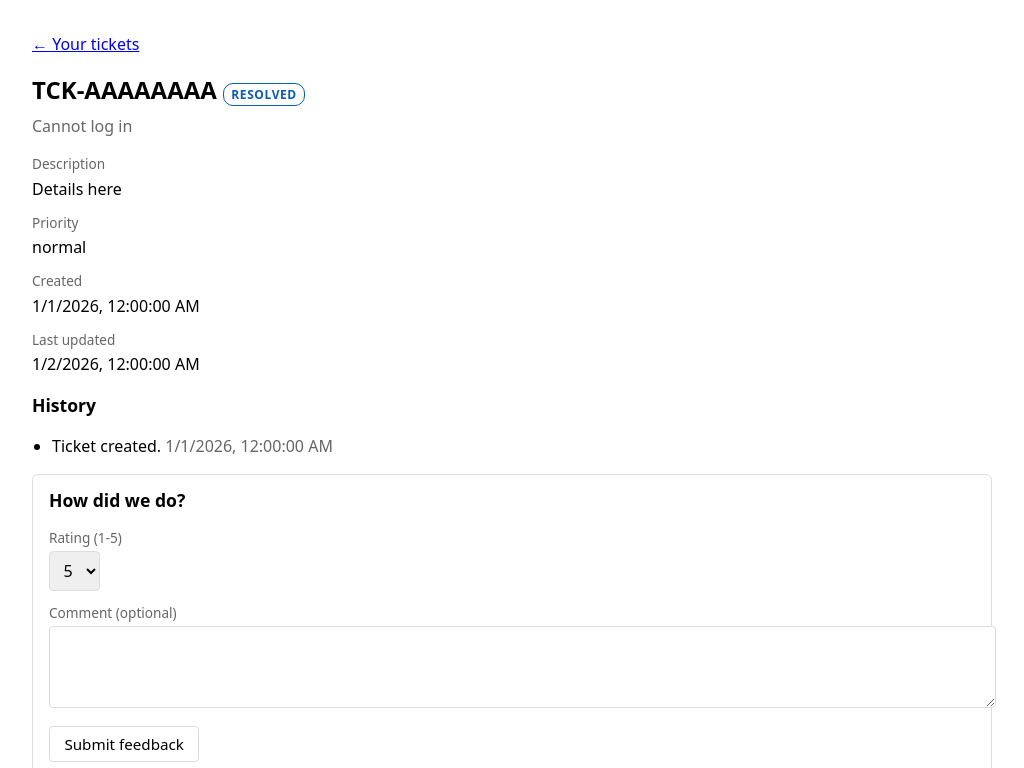
Test: PortalTicketDetailPage › shows the feedback form for a resolved ticket and saves a submission
Expected: the heading "How did we do?" is shown, [49,488,185,512]
Click the button "Submit feedback" at (124, 744), box [49,726,199,762]
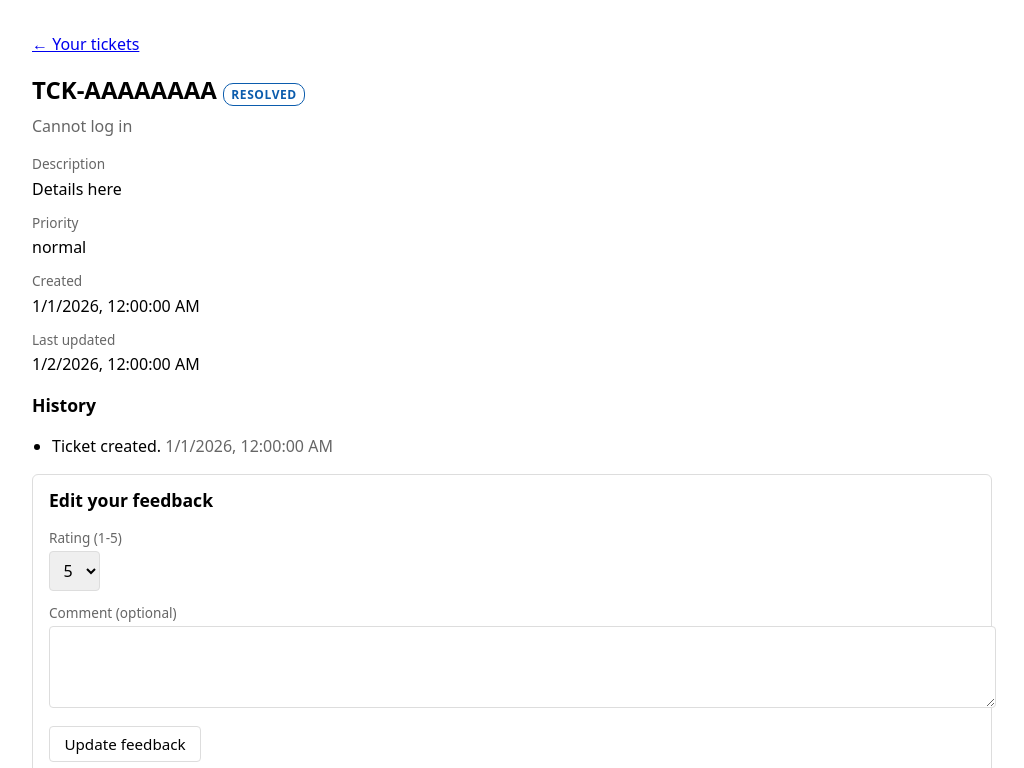
Result: the button "Update feedback" is shown at [49,726,201,762]
